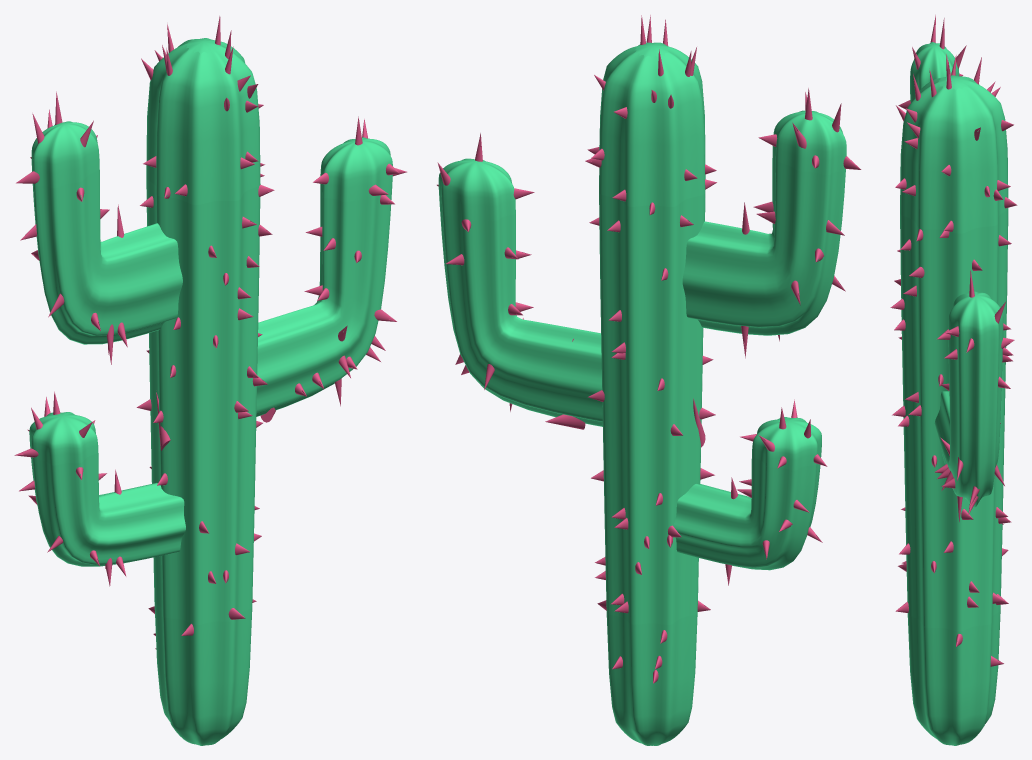
File: cactus02.fbx
3 views of the same model, side by side, from view 1: azimuth 30°, elevation 25°; view 2: azimuth 150°, elevation 25°; view 3: azimuth 270°, elevation 25° (orthographic). The views are drawn at different scales.
Parts seen in each view (by area): view 1: Extrude_7.003, Cone_0_7.004; view 2: Extrude_7.003, Cone_0_7.004; view 3: Extrude_7.003, Cone_0_7.004.
Part boxes in pixels (left/top/right/bottom): Extrude_7.003: left=29, top=38, right=392, bottom=745; Cone_0_7.004: left=14, top=16, right=406, bottom=648; Extrude_7.003: left=438, top=42, right=846, bottom=745; Cone_0_7.004: left=437, top=15, right=861, bottom=683; Extrude_7.003: left=900, top=42, right=1008, bottom=745; Cone_0_7.004: left=890, top=15, right=1017, bottom=666.
Bounding box in the file's own units: 1148 × 1948 × 326.
